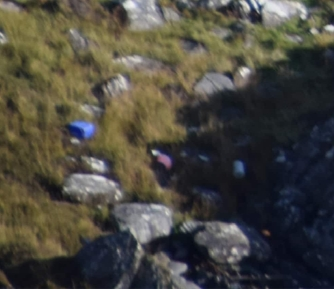scattered_barrel: (62, 110, 255, 179)
white_in_green: (247, 210, 285, 248)
